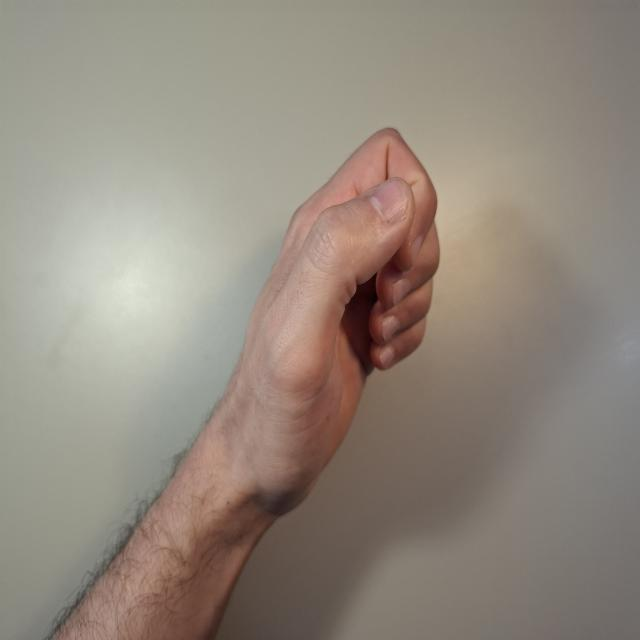glove_off: (218, 124, 442, 523)
